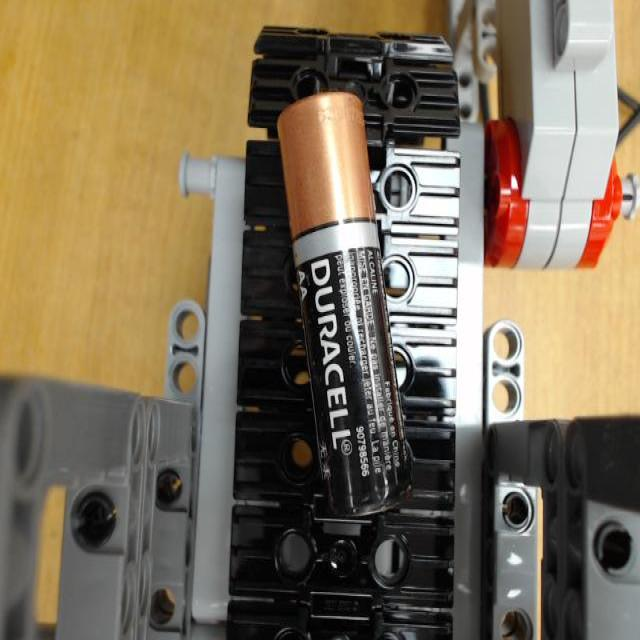AA: (276, 91, 416, 517)
